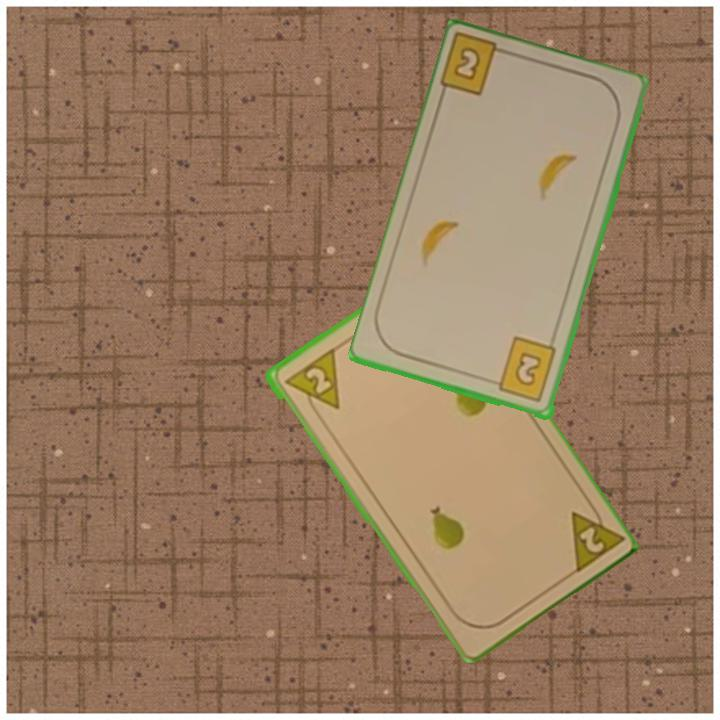2b: (486, 334, 560, 405), (438, 33, 516, 100)
2p: (278, 345, 343, 422), (566, 495, 625, 578)
